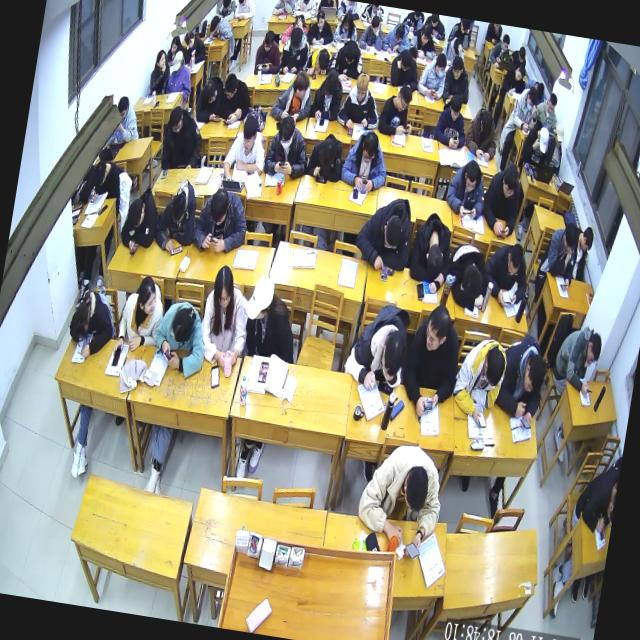bow: (342, 300, 412, 396), (448, 334, 510, 428), (494, 330, 551, 430), (353, 193, 416, 274), (150, 298, 212, 380), (404, 210, 456, 294), (191, 183, 251, 255), (64, 287, 119, 361), (153, 175, 202, 256), (480, 238, 533, 306), (444, 239, 492, 309), (118, 186, 162, 253), (306, 128, 347, 182), (217, 72, 255, 128), (193, 74, 228, 126), (328, 38, 366, 84), (388, 46, 422, 91), (407, 20, 440, 60), (382, 18, 414, 55), (182, 28, 210, 66), (301, 46, 333, 79), (208, 12, 237, 44), (508, 44, 529, 70), (215, 0, 237, 22)
down: (379, 327, 409, 377), (401, 464, 431, 514), (168, 307, 196, 345), (211, 262, 235, 306), (482, 347, 507, 388), (522, 352, 546, 394), (68, 302, 92, 340), (208, 188, 230, 226), (382, 212, 404, 249), (276, 114, 296, 150), (360, 128, 380, 162), (168, 193, 188, 226), (501, 164, 519, 199), (506, 240, 524, 274), (586, 332, 604, 366), (127, 198, 146, 229), (396, 82, 414, 112), (222, 70, 240, 100), (167, 103, 185, 133), (560, 222, 578, 252), (462, 162, 478, 192), (321, 133, 338, 161), (324, 68, 339, 98), (354, 73, 369, 102), (92, 161, 108, 187), (288, 24, 304, 50), (580, 225, 595, 252), (536, 126, 550, 154), (448, 95, 462, 122), (480, 110, 494, 136), (525, 86, 539, 111), (343, 41, 357, 65), (116, 95, 130, 118), (398, 49, 412, 72), (451, 56, 464, 80), (316, 48, 331, 68), (261, 29, 274, 52), (554, 123, 566, 147), (419, 22, 432, 44), (172, 50, 185, 71), (547, 92, 559, 114), (315, 8, 327, 29), (209, 14, 221, 34), (169, 33, 180, 54), (394, 25, 406, 44), (370, 15, 381, 35), (452, 36, 464, 54), (514, 64, 526, 80), (501, 34, 511, 53), (184, 32, 195, 49), (342, 12, 352, 29), (518, 46, 526, 64), (222, 0, 232, 10), (237, 0, 247, 4)
lookup: (239, 116, 257, 152)
sit: (352, 437, 449, 562), (396, 298, 468, 421), (196, 262, 256, 370), (238, 272, 306, 362), (112, 273, 168, 361), (551, 322, 604, 396), (478, 159, 526, 238), (339, 127, 393, 195), (221, 114, 271, 186), (262, 114, 313, 182), (158, 105, 207, 174), (444, 154, 491, 220), (336, 72, 386, 132), (540, 220, 581, 292), (270, 66, 316, 124), (378, 80, 418, 138), (432, 92, 472, 148), (463, 105, 502, 161), (310, 69, 346, 125), (440, 53, 474, 108), (278, 26, 314, 77), (415, 49, 450, 100), (88, 161, 125, 207), (507, 85, 541, 133), (112, 95, 144, 145), (520, 120, 552, 170), (253, 29, 285, 78), (570, 223, 595, 280), (166, 50, 196, 96), (542, 123, 568, 176), (148, 48, 174, 95), (307, 8, 338, 46), (534, 90, 562, 132), (358, 12, 386, 52), (440, 34, 467, 70), (334, 11, 361, 46), (501, 62, 528, 97), (488, 33, 512, 70), (166, 34, 185, 66), (234, 0, 258, 21)
